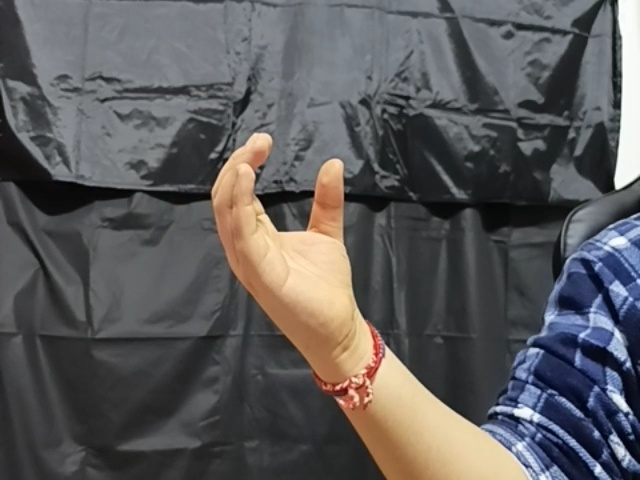C: (201, 129, 377, 332)
